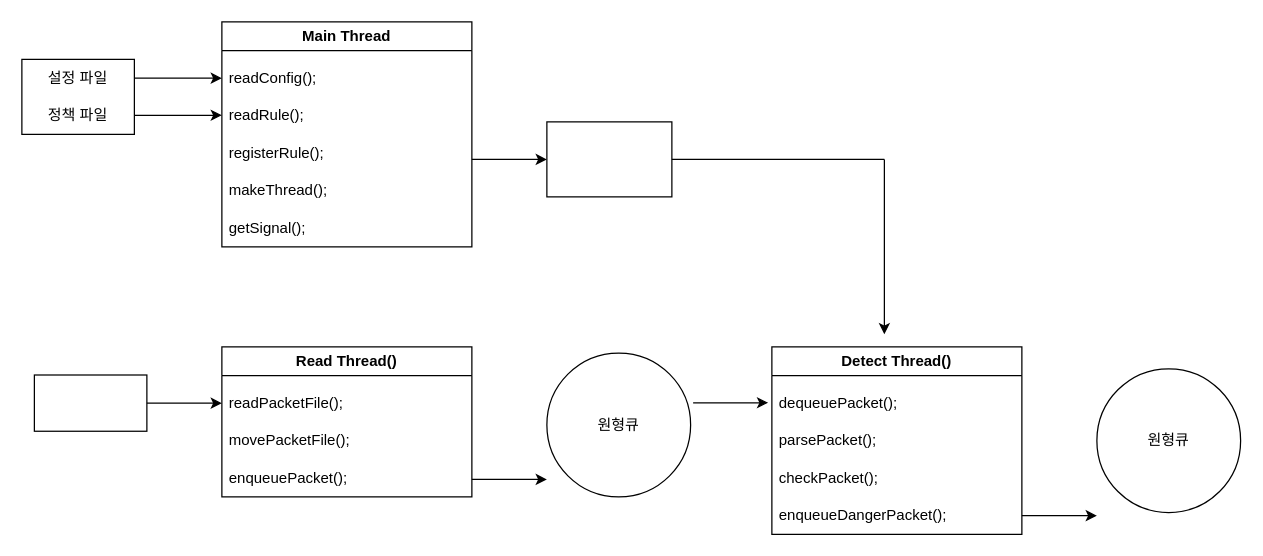
Image size: 1263x556. Some labels were removed from this diagram. The shapes that lost their labels are listed below. From the top down, each one's centre as x and y in pixels, then its label:
At pixel 609 159: "정책".
At pixel 90 402: "패킷 파일".
